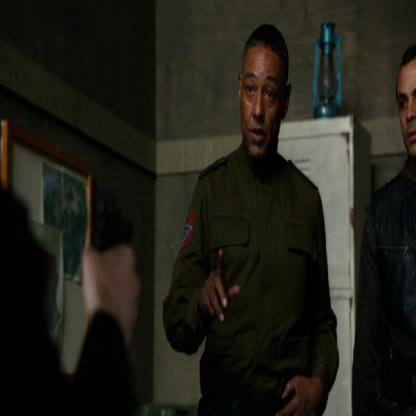Gun: (86, 187, 140, 262)
